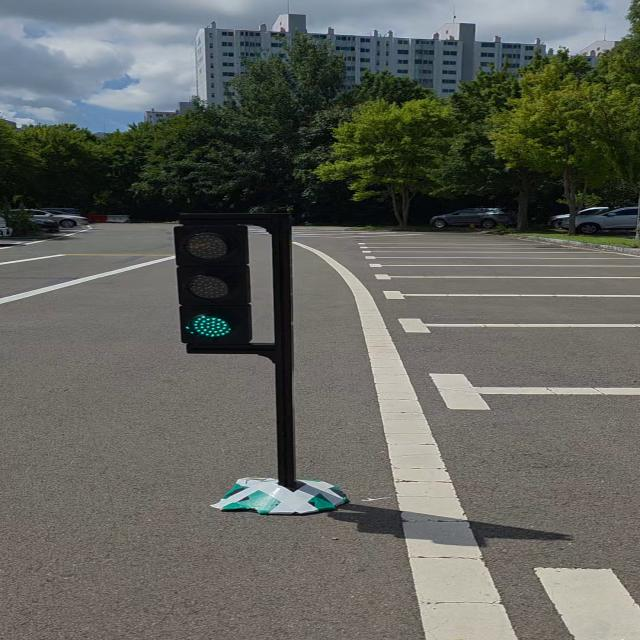green: (176, 218, 255, 352)
